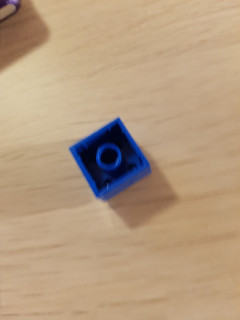2x2 blue: (68, 116, 153, 203)
